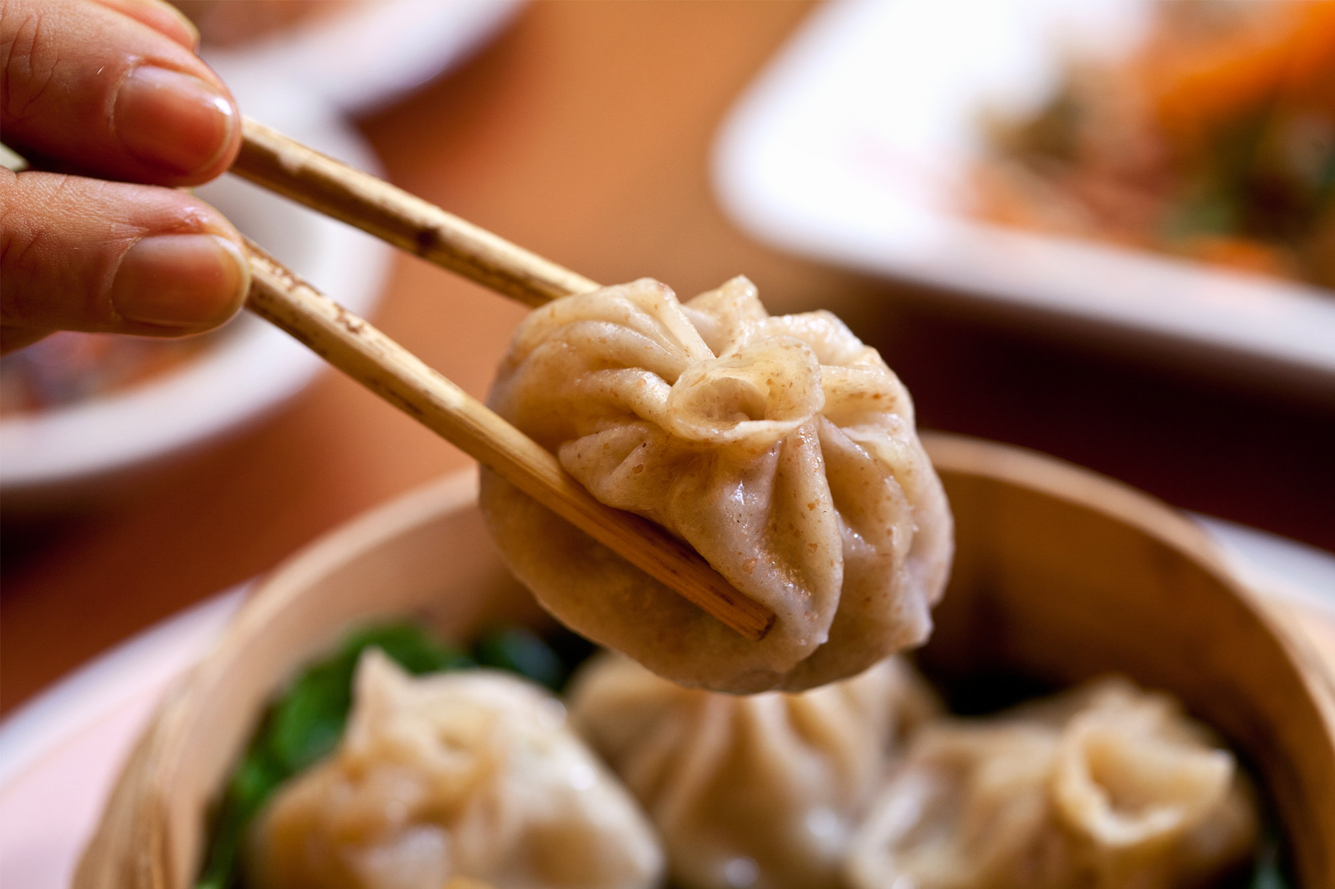momo: (474, 273, 957, 685), (245, 649, 661, 889), (859, 678, 1262, 889)
